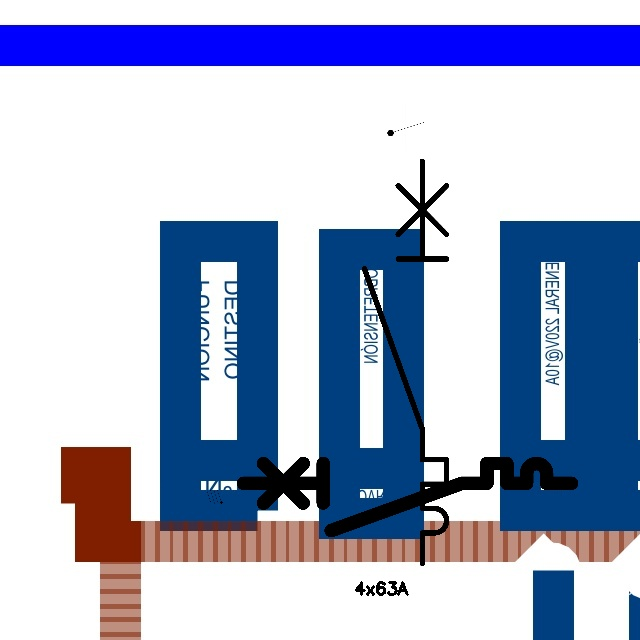interruptor_termomagnetico: (354, 150, 457, 573), (235, 455, 580, 539)
